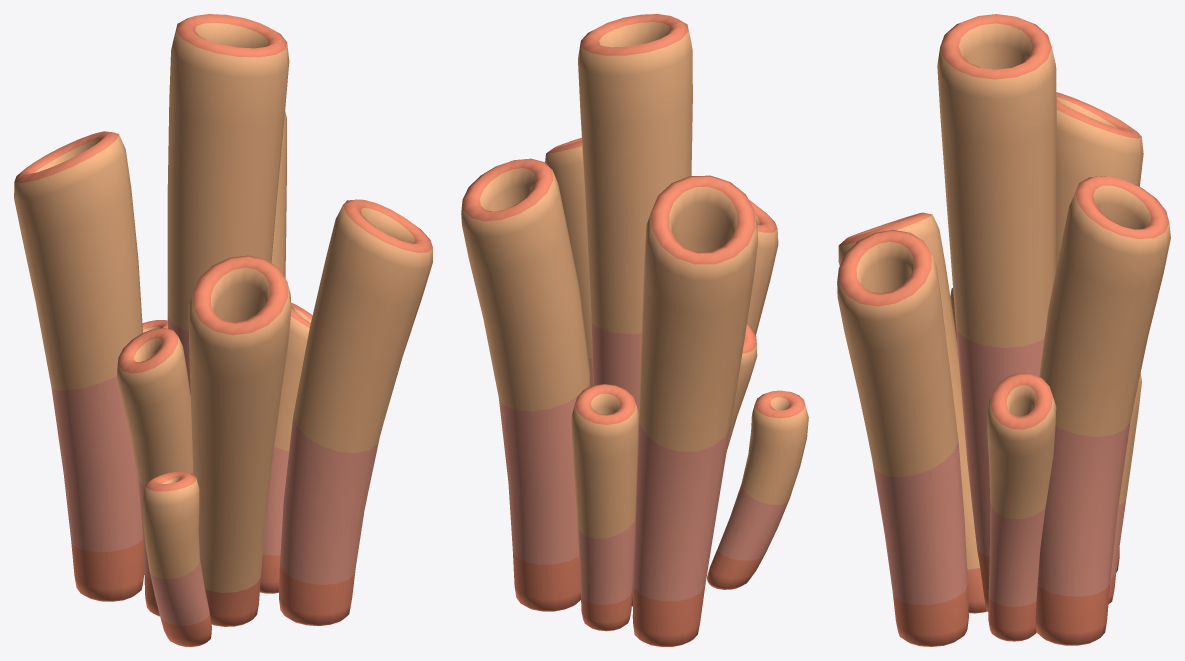
File: Coral_C_01.fbx
3 renders of one model, left to right at view 1: azimuth 30°, elevation 25°; view 2: azimuth 150°, elevation 25°; view 3: azimuth 270°, elevation 25°, orthographic. The views are drawn at different scales.
Visible parts, largest first — view 1: Coral_C_01_LOD0; view 2: Coral_C_01_LOD0; view 3: Coral_C_01_LOD0.
Part boxes in pixels (<box>): Coral_C_01_LOD0: <box>14,14,432,646</box>; Coral_C_01_LOD0: <box>461,14,808,646</box>; Coral_C_01_LOD0: <box>837,14,1170,646</box>.
Size of what is drawn, in the model's own units: 363 by 662 by 347.
